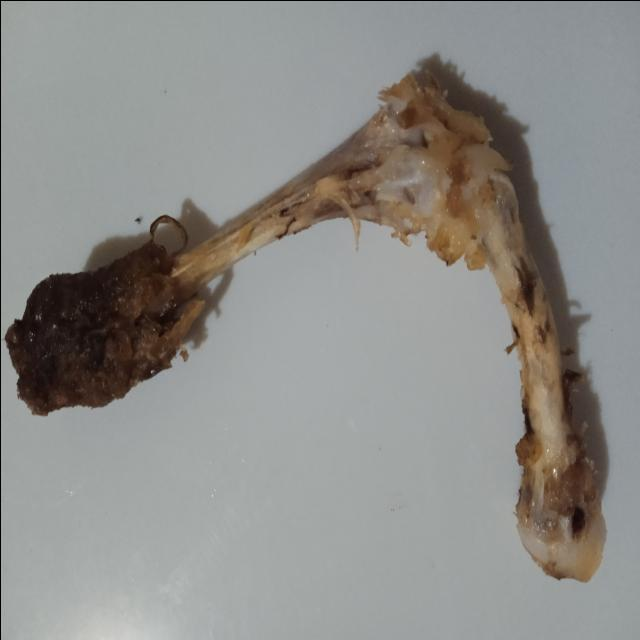bone: (0, 57, 610, 586)
